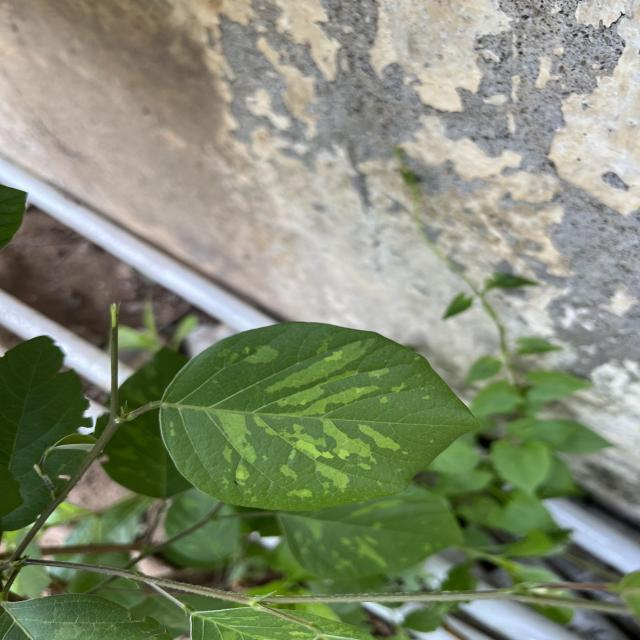Desmodium gangeticum: (154, 319, 484, 515)
